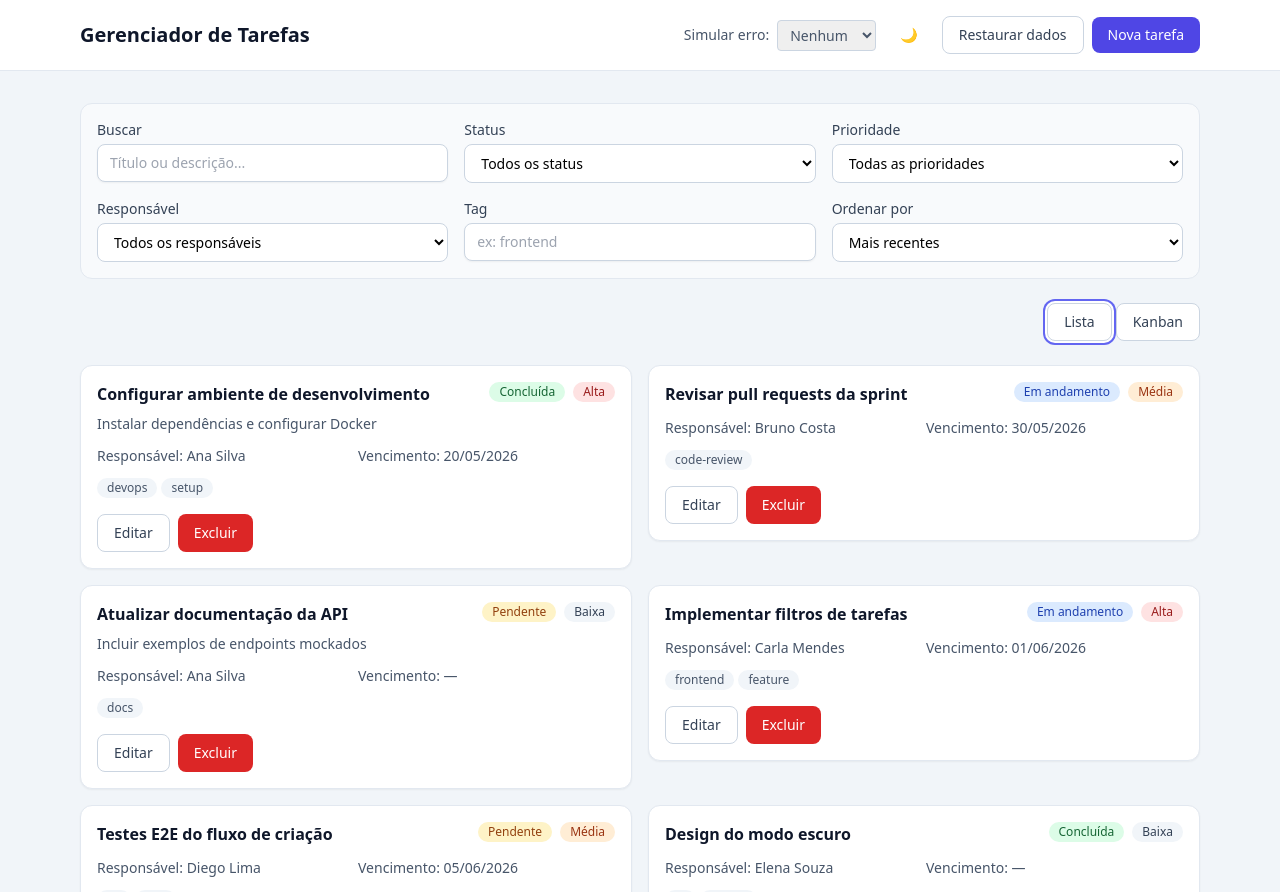
Test: HomePage integration › creates a task via form
Click the button with test id "new-task-btn" at coordinates (1146, 35), box [1092,17,1200,53]
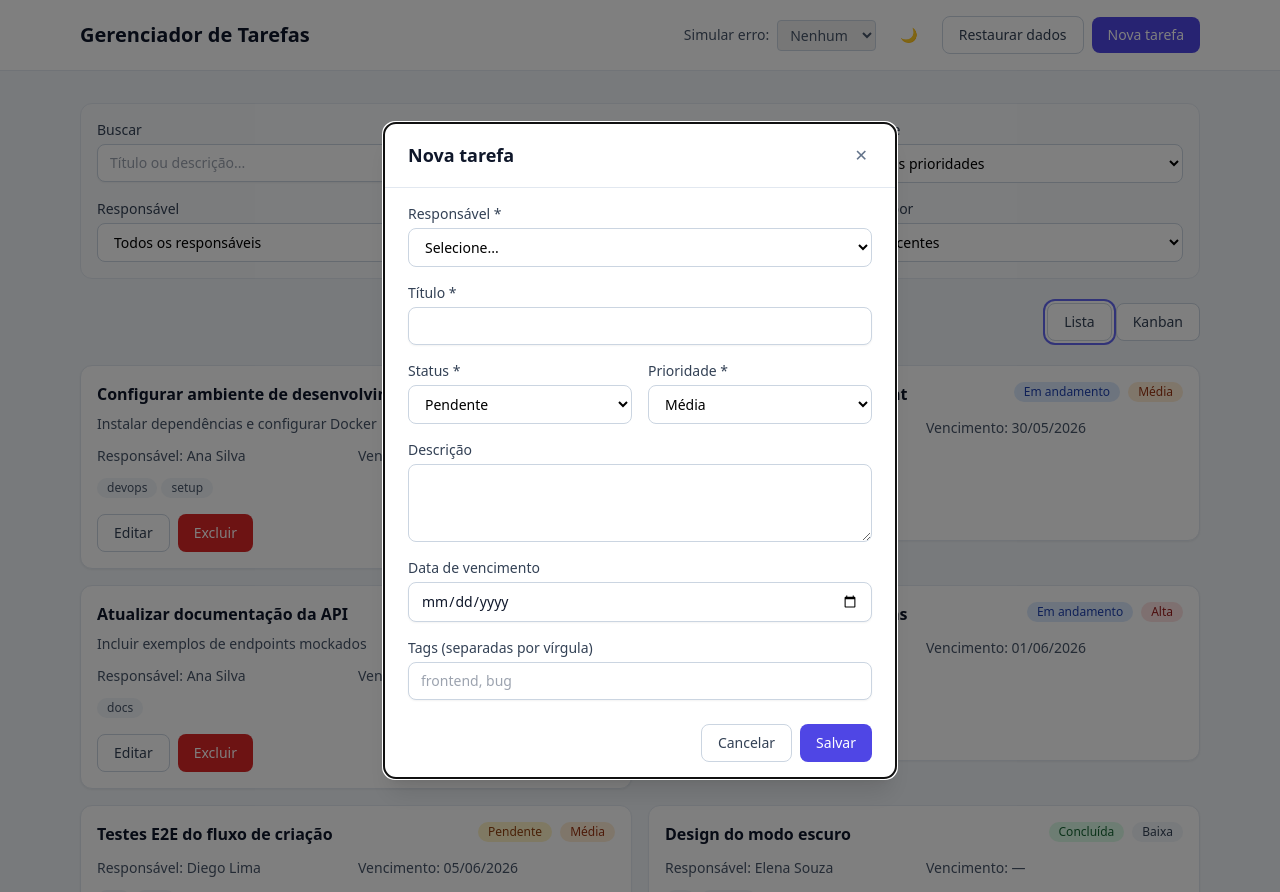
Select "Ana Silva" in the dropdown labelled "Responsável *" at coordinates (640, 247), box [408,228,872,266]
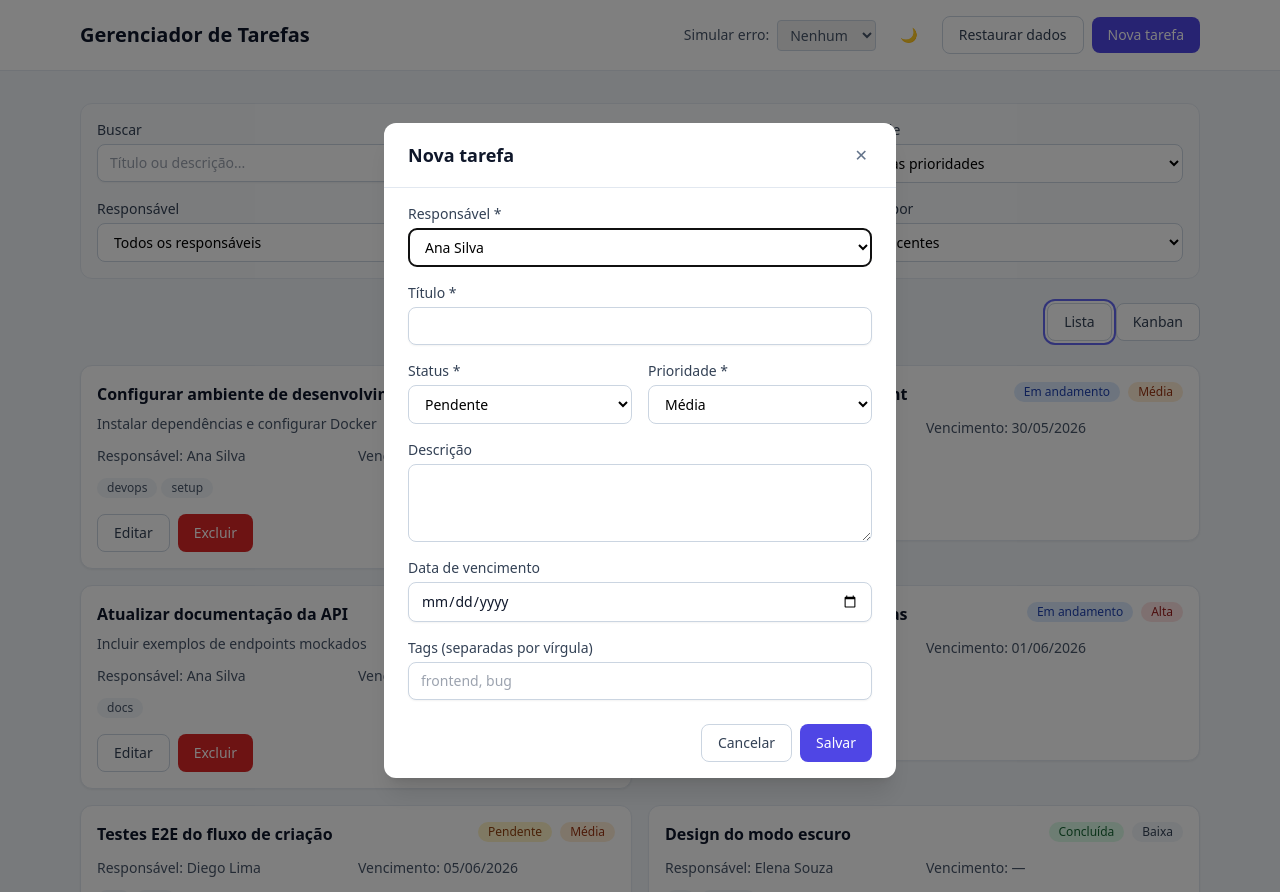
Type "Tarefa criada no teste" into the field labelled "Título *" at coordinates (640, 326), box [408,306,872,344]
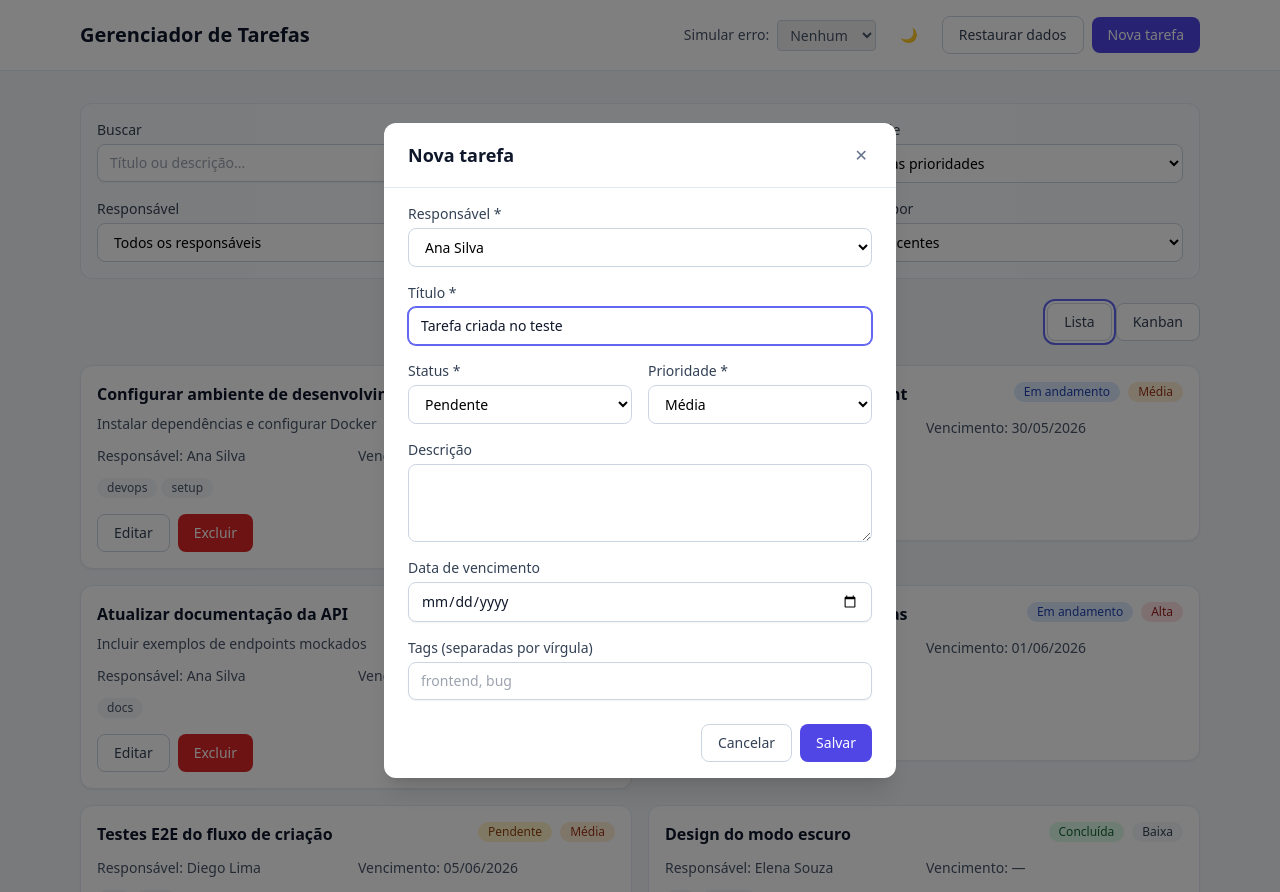
Click the button "Salvar" at coordinates (836, 742), box [800,724,872,762]
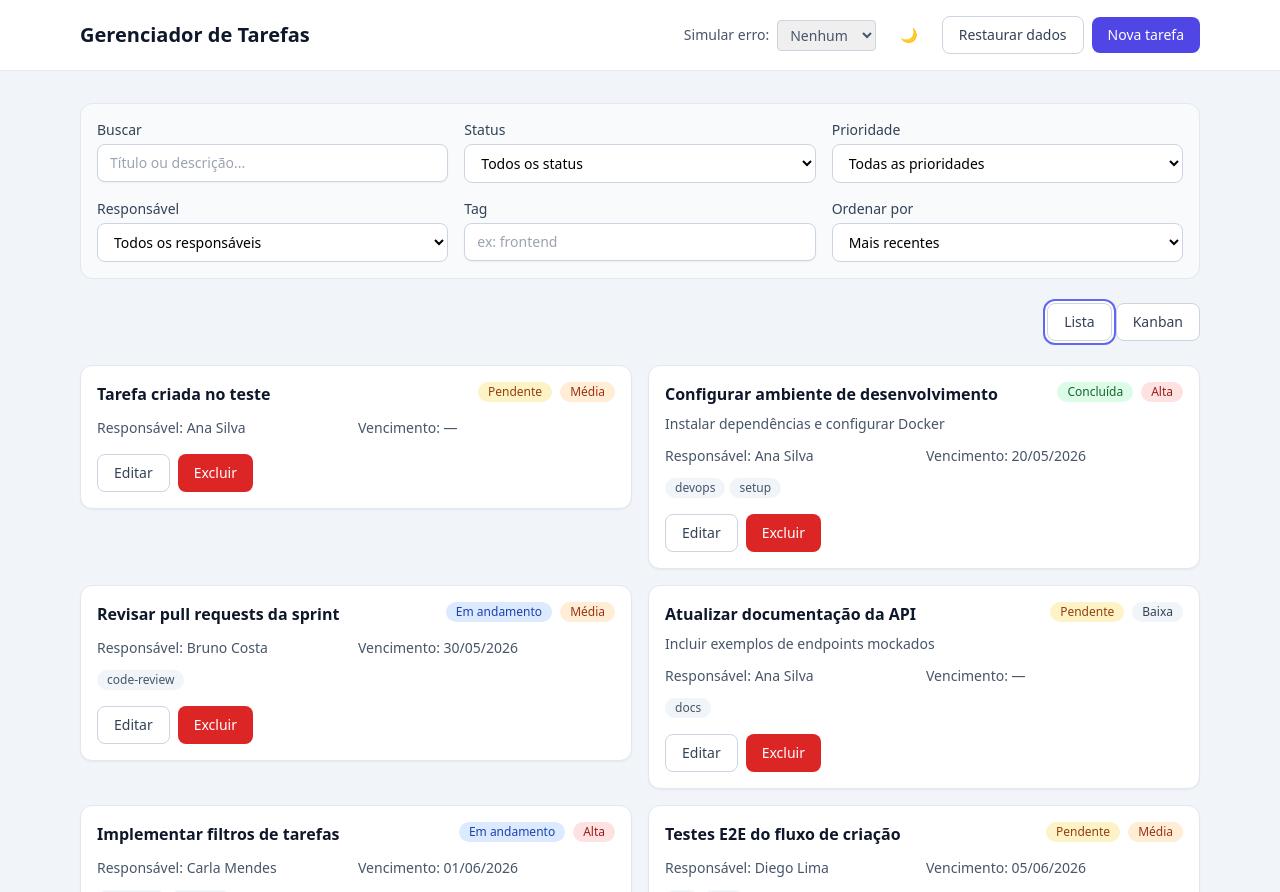
expect the heading "Tarefa criada no teste" is shown: met, box [97,382,270,406]
